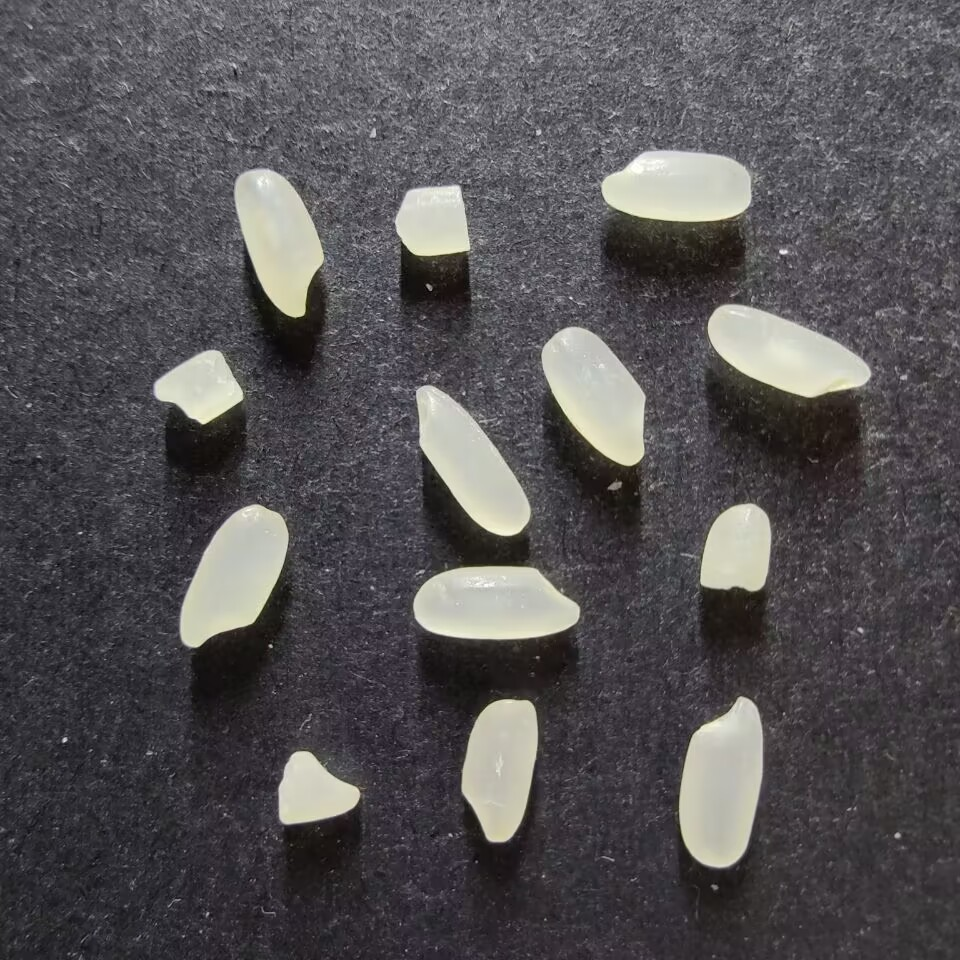broken: (153, 349, 244, 425), (698, 503, 771, 592), (276, 750, 361, 825), (393, 184, 471, 256)
rice: (415, 383, 531, 537), (178, 504, 288, 648), (706, 303, 871, 398), (540, 326, 646, 466), (677, 696, 763, 868), (233, 168, 325, 317), (412, 564, 580, 640), (460, 697, 538, 843), (600, 149, 752, 223)
